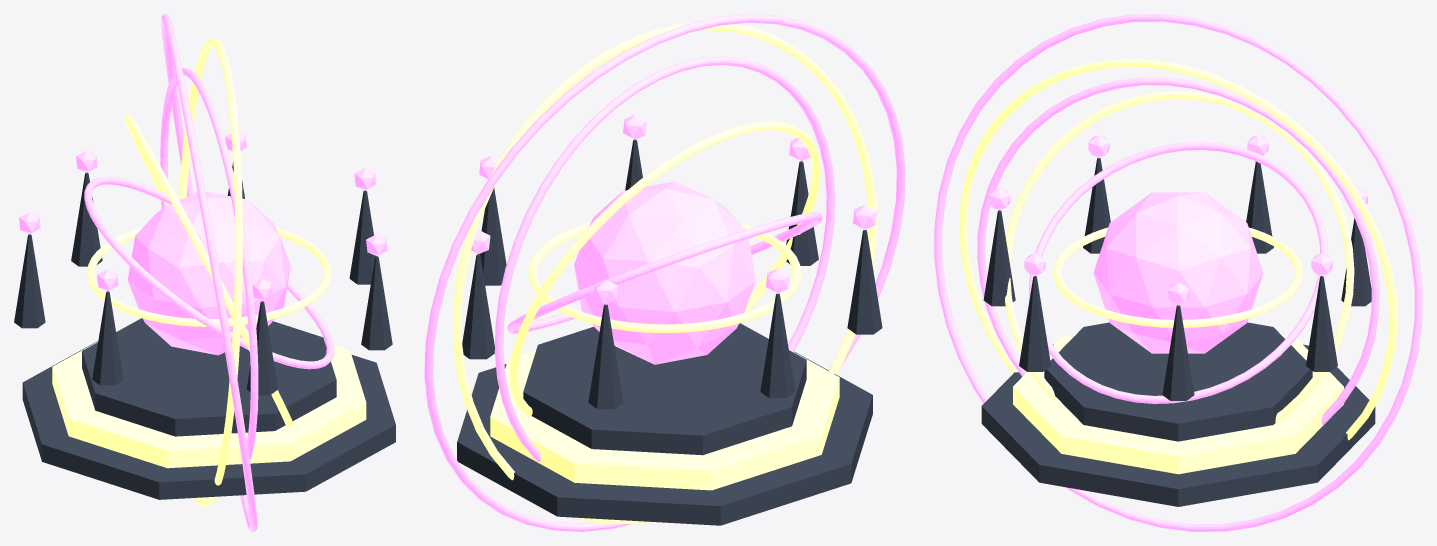
The model's file is gpu-blender-v1.glb.
3 views of the same model, side by side, from view 1: azimuth 30°, elevation 25°; view 2: azimuth 150°, elevation 25°; view 3: azimuth 270°, elevation 25° (orthographic). The views are drawn at different scales.
Visible parts, largest first — view 1: Cylinder.002, Cylinder, SovereignCore_subsweep-lead-scanner, Cylinder.001, Torus.005, Torus.004, Torus.003, Torus.001, Torus, Torus.002, Cone.003, Cone.006 (+4 smaller); view 2: Cylinder.002, SovereignCore_subsweep-lead-scanner, Cylinder, Cylinder.001, Torus.005, Torus.003, Torus.004, Torus.002, Torus.001, Torus, Cone.002, Cone.003 (+4 smaller); view 3: SovereignCore_subsweep-lead-scanner, Cylinder.002, Cylinder, Cylinder.001, Torus.005, Torus.004, Torus.003, Torus.002, Torus.001, Torus, Cone, Cone.001 (+5 smaller).
Boxes of the visible parts, <box> form: Cylinder.002: <box>82,318,336,436</box>; Cylinder: <box>22,341,395,499</box>; SovereignCore_subsweep-lead-scanner: <box>127,191,290,355</box>; Cylinder.001: <box>52,325,366,468</box>; Torus.005: <box>161,14,257,531</box>; Torus.004: <box>179,38,242,507</box>; Torus.003: <box>160,68,258,459</box>; Torus.001: <box>84,176,334,369</box>; Torus: <box>87,227,331,326</box>; Torus.002: <box>124,114,293,426</box>; Cone.003: <box>14,234,45,328</box>; Cone.006: <box>361,256,392,350</box>; Cylinder.002: <box>523,323,806,455</box>; SovereignCore_subsweep-lead-scanner: <box>574,181,755,364</box>; Cylinder: <box>457,351,872,525</box>; Cylinder.001: <box>490,330,839,490</box>; Torus.005: <box>424,14,905,531</box>; Torus.003: <box>494,56,835,461</box>; Torus.004: <box>453,22,876,524</box>; Torus.002: <box>509,121,820,416</box>; Torus.001: <box>507,212,822,333</box>; Torus: <box>528,222,801,333</box>; Cone.002: <box>588,304,623,409</box>; Cone.003: <box>760,293,795,398</box>; SovereignCore_subsweep-lead-scanner: <box>1093,192,1263,353</box>; Cylinder.002: <box>1044,322,1312,441</box>; Cylinder: <box>981,344,1375,506</box>; Cylinder.001: <box>1013,334,1343,474</box>; Torus.005: <box>934,14,1422,531</box>; Torus.004: <box>959,59,1397,440</box>; Torus.003: <box>977,77,1379,424</box>; Torus.002: <box>1005,91,1354,423</box>; Torus.001: <box>1029,142,1327,403</box>; Torus: <box>1053,227,1303,327</box>; Cone: <box>1162,305,1194,400</box>; Cone.001: <box>1306,276,1337,371</box>.
Size of the model in its own units: 4.41 by 5.93 by 5.46.
